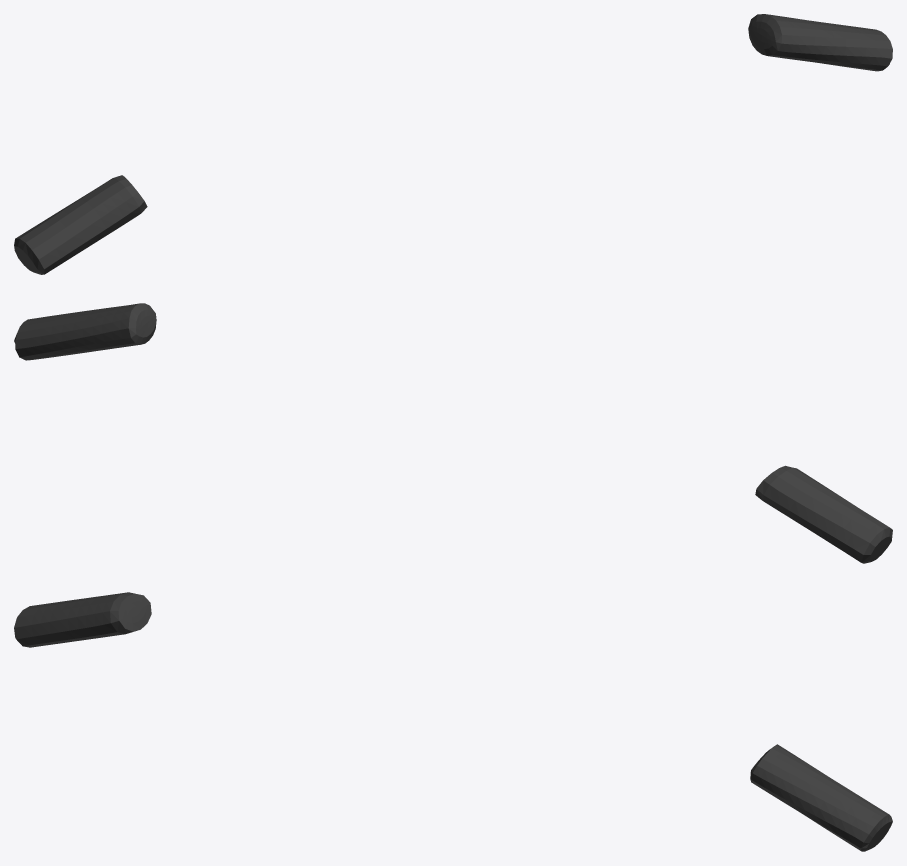
3 renders of one model, top to bottom at view 1: azimuth 30°, elevation 25°; view 2: azimuth 150°, elevation 25°; view 3: azimuth 330°, elevation 25°, orthographic.
Visible parts, largest first — view 1: CN10_low_CN10_low; view 2: CN10_low_CN10_low; view 3: CN10_low_CN10_low.
Part boxes in pixels (<box>): CN10_low_CN10_low: <box>14,14,892,274</box>; CN10_low_CN10_low: <box>14,303,892,563</box>; CN10_low_CN10_low: <box>14,592,892,851</box>.
Size of the model in its own units: 19.84 by 1.67 by 1.15.
Materials: 1 (1 with a texture image).
